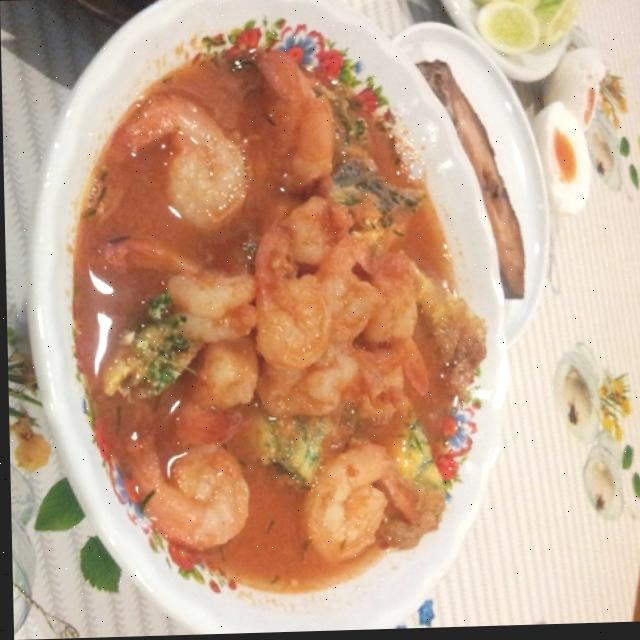汤锅炖物: (50, 4, 503, 624)
